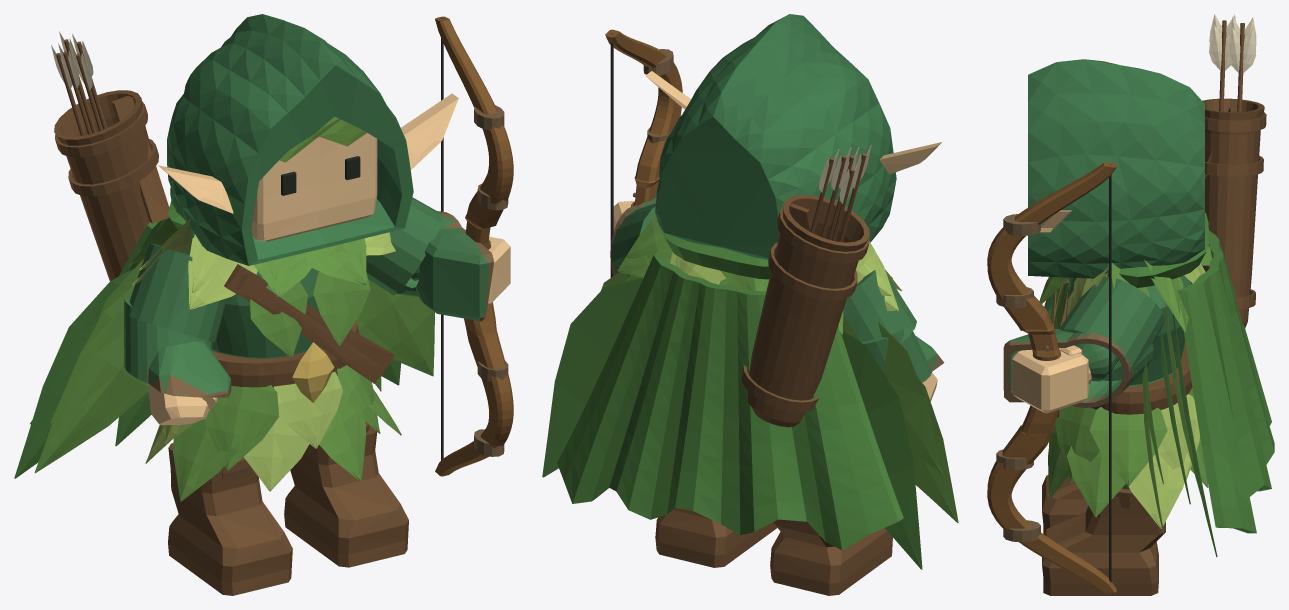
Rendered from thornwarden.glb.
3 renders of one model, left to right at view 1: azimuth 30°, elevation 25°; view 2: azimuth 150°, elevation 25°; view 3: azimuth 270°, elevation 25°, orthographic. The views are drawn at different scales.
Visible parts, largest first — view 1: Hood — peaked source fold facets and closed fitted inner cav, RIGHT boot — broad source angular toe ankle and fitted shaft, RIGHT relaxed arm — full outer sleeve with open fitted wrist, LEFT boot — broad source angular toe ankle and fitted shaft, LEFT bow arm — full outer sleeve with open fitted wrist cavi, Head — one continuous bevelled jaw cheek forehead and concea, RIGHT rear quiver — substantial hollow leather cup with actu, RIGHT outer diagonal cloak leaf fan 2, Upper bow limb — shooting-plane broad angular taper and real, LEFT outer diagonal cloak leaf fan 2, Lower bow limb — shooting-plane broad angular taper and real, RIGHT cloak overlapping long leaf fold 3 (+27 smaller); view 2: Cape — connected draped folded rear fabric with source scall, Hood — peaked source fold facets and closed fitted inner cav, RIGHT rear quiver — substantial hollow leather cup with actu, LEFT cloak overlapping long leaf fold 3, RIGHT cloak overlapping long leaf fold 3, RIGHT boot — broad source angular toe ankle and fitted shaft, RIGHT relaxed arm — full outer sleeve with open fitted wrist, LEFT boot — broad source angular toe ankle and fitted shaft, Upper bow limb — shooting-plane broad angular taper and real, RIGHT outer diagonal cloak leaf fan 1, Collar — underlying closed folded cloth shoulder yoke, RIGHT outer diagonal cloak leaf fan 2 (+12 smaller); view 3: Hood — peaked source fold facets and closed fitted inner cav, Cape — connected draped folded rear fabric with source scall, LEFT bow arm — full outer sleeve with open fitted wrist cavi, LEFT boot — broad source angular toe ankle and fitted shaft, RIGHT rear quiver — substantial hollow leather cup with actu, Upper bow limb — shooting-plane broad angular taper and real, Lower bow limb — shooting-plane broad angular taper and real, LEFT bow arm hand — compact source grip palm and thumb sourc, Tunic skirt — overlapping pointed leaf tier 1 panel 5, Tunic skirt — overlapping pointed leaf tier 2 panel 4, Tunic skirt — overlapping pointed leaf tier 2 panel 5, Tunic skirt — overlapping pointed leaf tier 1 panel 6 (+25 smaller).
Part boxes in pixels (<box>): Hood — peaked source fold facets and closed fitted inner cav: <box>167,14,413,265</box>; RIGHT boot — broad source angular toe ankle and fitted shaft: <box>168,443,292,595</box>; RIGHT relaxed arm — full outer sleeve with open fitted wrist: <box>124,243,231,397</box>; LEFT boot — broad source angular toe ankle and fitted shaft: <box>284,425,408,567</box>; LEFT bow arm — full outer sleeve with open fitted wrist cavi: <box>366,197,494,321</box>; Head — one continuous bevelled jaw cheek forehead and concea: <box>251,133,377,241</box>; RIGHT rear quiver — substantial hollow leather cup with actu: <box>54,90,152,280</box>; RIGHT outer diagonal cloak leaf fan 2: <box>34,309,148,473</box>; Upper bow limb — shooting-plane broad angular taper and real: <box>435,16,513,248</box>; LEFT outer diagonal cloak leaf fan 2: <box>356,279,434,376</box>; Lower bow limb — shooting-plane broad angular taper and real: <box>435,302,513,476</box>; RIGHT cloak overlapping long leaf fold 3: <box>14,268,134,478</box>; Cape — connected draped folded rear fabric with source scall: <box>557,251,903,550</box>; Hood — peaked source fold facets and closed fitted inner cav: <box>655,14,896,259</box>; RIGHT rear quiver — substantial hollow leather cup with actu: <box>748,194,869,427</box>; LEFT cloak overlapping long leaf fold 3: <box>542,277,643,477</box>; RIGHT cloak overlapping long leaf fold 3: <box>841,330,922,569</box>; RIGHT boot — broad source angular toe ankle and fitted shaft: <box>770,519,892,595</box>; RIGHT relaxed arm — full outer sleeve with open fitted wrist: <box>843,270,944,382</box>; LEFT boot — broad source angular toe ankle and fitted shaft: <box>655,508,777,567</box>; Upper bow limb — shooting-plane broad angular taper and real: <box>605,29,682,205</box>; RIGHT outer diagonal cloak leaf fan 1: <box>878,322,942,474</box>; Collar — underlying closed folded cloth shoulder yoke: <box>654,212,770,279</box>; RIGHT outer diagonal cloak leaf fan 2: <box>911,378,958,522</box>; Hood — peaked source fold facets and closed fitted inner cav: <box>1028,59,1204,278</box>; Cape — connected draped folded rear fabric with source scall: <box>1177,230,1274,533</box>; LEFT bow arm — full outer sleeve with open fitted wrist cavi: <box>1003,276,1164,407</box>; LEFT boot — broad source angular toe ankle and fitted shaft: <box>1042,496,1165,595</box>; RIGHT rear quiver — substantial hollow leather cup with actu: <box>1201,98,1264,327</box>; Upper bow limb — shooting-plane broad angular taper and real: <box>987,162,1116,357</box>; Lower bow limb — shooting-plane broad angular taper and real: <box>987,405,1116,593</box>; LEFT bow arm hand — compact source grip palm and thumb sourc: <box>1012,345,1091,413</box>; Tunic skirt — overlapping pointed leaf tier 1 panel 5: <box>1089,407,1167,485</box>; Tunic skirt — overlapping pointed leaf tier 2 panel 4: <box>1128,453,1190,528</box>; Tunic skirt — overlapping pointed leaf tier 2 panel 5: <box>1066,446,1125,517</box>; Tunic skirt — overlapping pointed leaf tier 1 panel 6: <box>1055,405,1099,483</box>.
Size of the model in its own units: 0.8364 by 1.03 by 0.5371.
